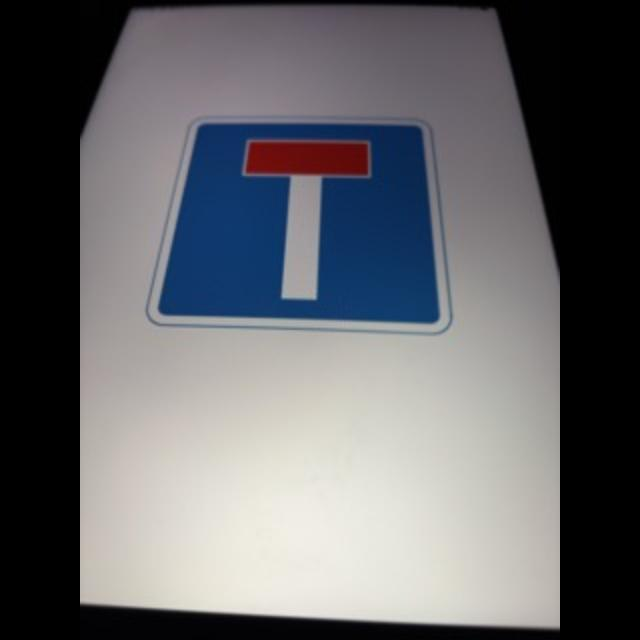DEAD END: (148, 118, 450, 332)
